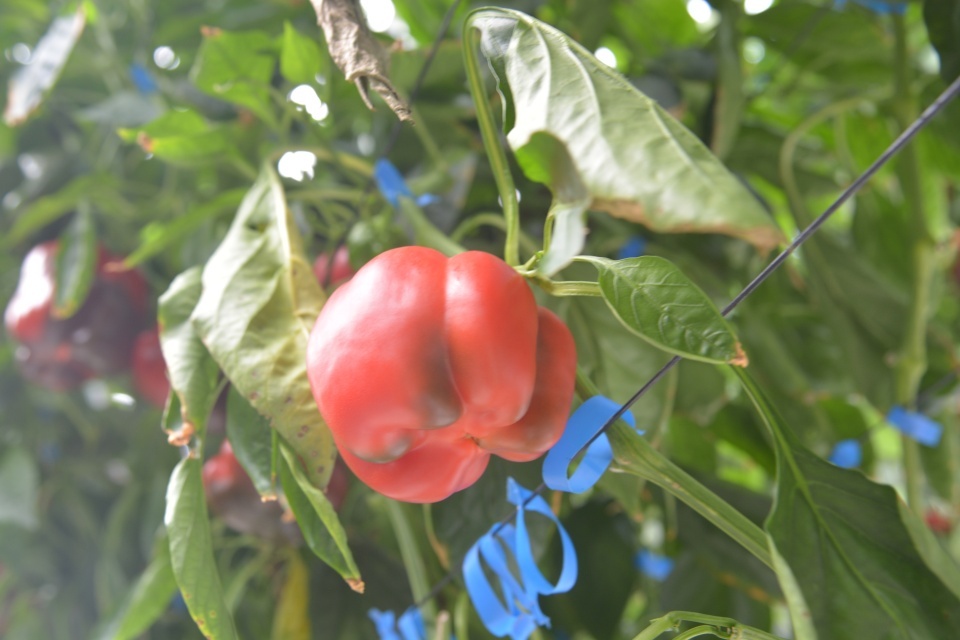fruit: (304, 244, 580, 506), (4, 236, 152, 392), (200, 436, 351, 548), (130, 326, 175, 408)
